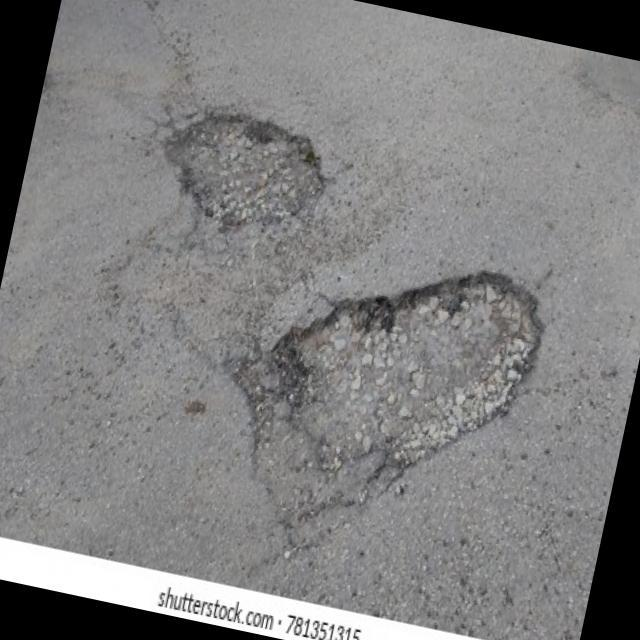Pothole: (200, 219, 560, 588), (102, 92, 338, 379)
